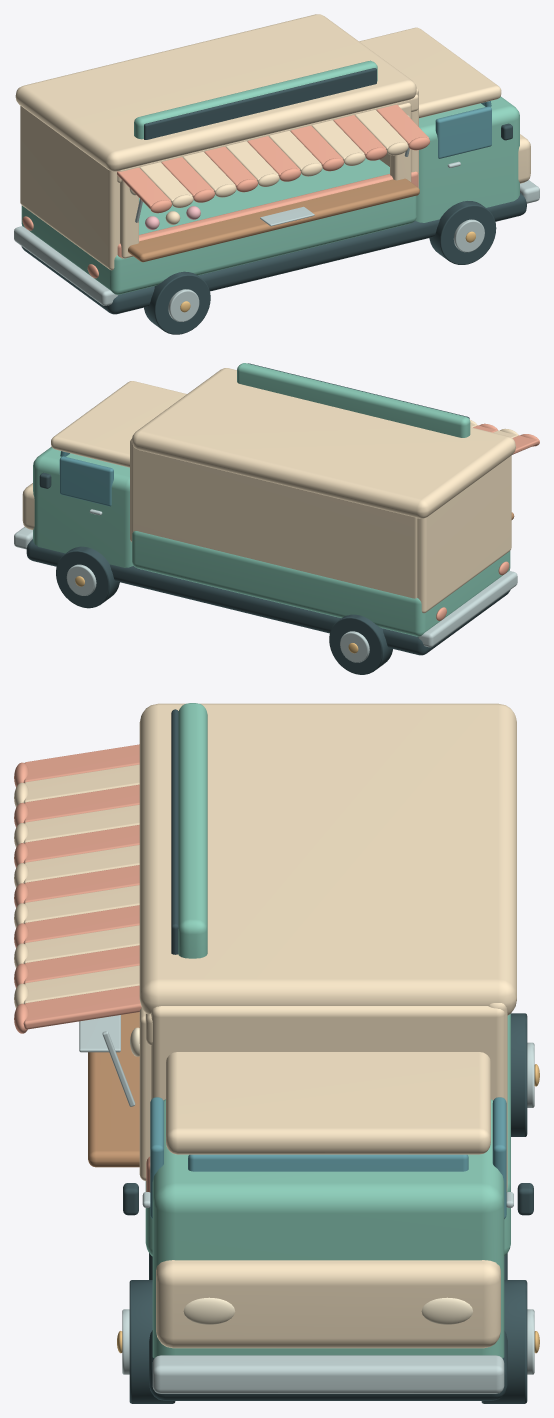
The model's file is Camion.fbx.
The picture shows the model from 3 angles, top to bottom: view 1: azimuth 30°, elevation 25°; view 2: azimuth 150°, elevation 25°; view 3: azimuth 270°, elevation 25°; orthographic projection. The views are drawn at different scales.
Visible parts, largest first — view 1: Techo de la cocina, Zócalo verde, Pared lateral, Cabina menta, Chasis, Toldo de cabina, Encimera lustrosa, Filete del letrero, Neumático.001, Letrero sobre el toldo, Neumático, Ventana de la cabina (+23 smaller); view 2: Techo de la cocina, Pared de fondo, Zócalo verde, Pared lateral, Cabina menta, Chasis, Toldo de cabina, Letrero sobre el toldo, Neumático.003, Neumático.002, Ventana de la cabina.001, Parachoques trasero (+3 smaller); view 3: Techo de la cocina, Cabina menta, Toldo de cabina, Capó, Pared lateral.001, Parachoques, Letrero sobre el toldo, Encimera lustrosa, Parabrisas, Chasis, Rayas del toldo.012, Neumático.003 (+22 smaller).
Boxes of the visible parts, x1,y1,x2,y2 form: Techo de la cocina: [15, 14, 416, 171]; Zócalo verde: [21, 158, 416, 294]; Pared lateral: [20, 106, 119, 270]; Cabina menta: [415, 96, 519, 222]; Chasis: [21, 193, 526, 314]; Toldo de cabina: [359, 27, 501, 118]; Encimera lustrosa: [128, 178, 419, 262]; Filete del letrero: [144, 68, 376, 139]; Neumático.001: [429, 201, 496, 264]; Letrero sobre el toldo: [134, 60, 377, 139]; Neumático: [144, 271, 210, 334]; Ventana de la cabina: [435, 106, 491, 158]; Techo de la cocina: [132, 368, 515, 518]; Pared de fondo: [131, 439, 417, 598]; Zócalo verde: [132, 531, 510, 636]; Pared lateral: [417, 455, 511, 613]; Cabina menta: [33, 447, 133, 567]; Chasis: [26, 539, 510, 655]; Toldo de cabina: [51, 381, 186, 467]; Letrero sobre el toldo: [237, 363, 470, 437]; Neumático.003: [56, 546, 119, 608]; Neumático.002: [329, 614, 392, 674]; Ventana de la cabina.001: [59, 456, 113, 506]; Parachoques trasero: [418, 571, 517, 647]; Techo de la cocina: [139, 703, 516, 1015]; Cabina menta: [152, 1099, 504, 1358]; Toldo de cabina: [166, 1052, 490, 1154]; Capó: [156, 1260, 500, 1348]; Pared lateral.001: [151, 1006, 505, 1100]; Parachoques: [152, 1355, 504, 1393]; Letrero sobre el toldo: [178, 703, 207, 958]; Encimera lustrosa: [88, 1012, 139, 1167]; Parabrisas: [188, 1154, 468, 1171]; Chasis: [149, 1253, 507, 1400]; Rayas del toldo.012: [23, 985, 141, 1029]; Neumático.003: [481, 1280, 527, 1403].
Size of the model in its own units: 721 by 331 by 392.
